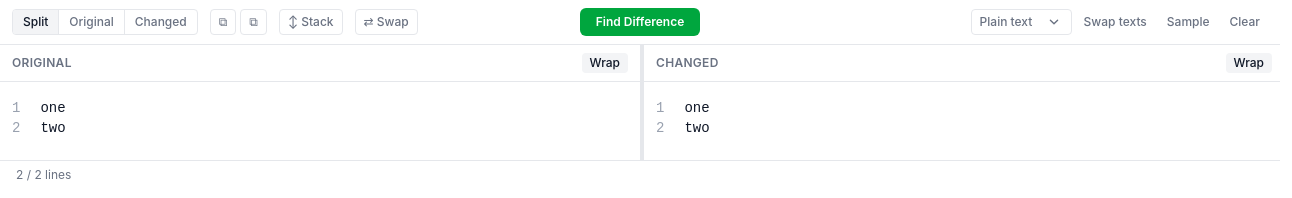
Test: DiffChecker › renders a pilcrow at the end of a line that has a line terminator
Click the button "Find Difference" at (640, 22), box [580, 8, 700, 36]
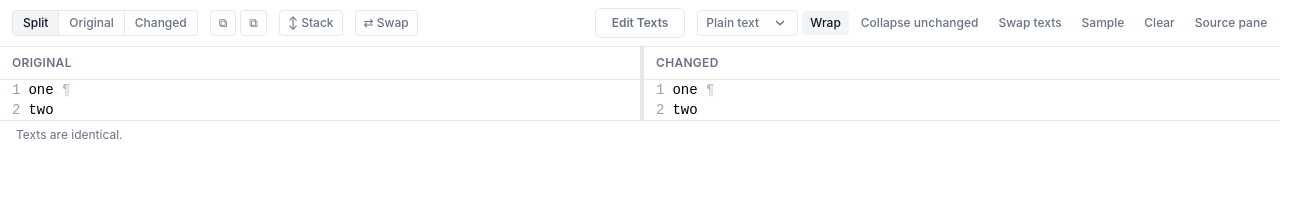
expect the element showing "1 2 one ¶ two" is shown: met, box [0, 80, 640, 120]
